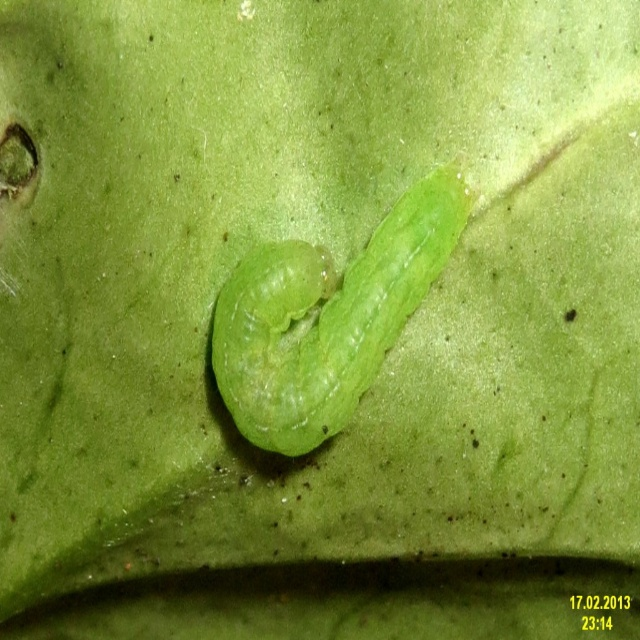Caterpillar: (212, 146, 476, 455)
